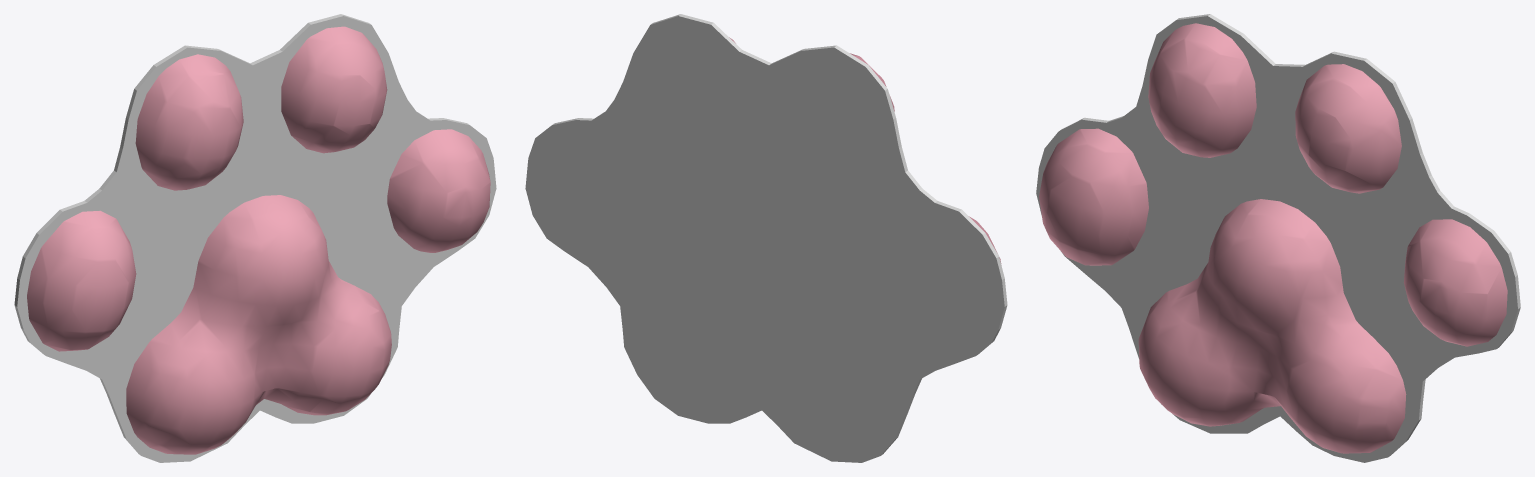
The model's file is cat.glb.
The picture shows the model from 3 angles, left to right: view 1: azimuth 30°, elevation 25°; view 2: azimuth 150°, elevation 25°; view 3: azimuth 330°, elevation 25°; orthographic projection.
Parts seen in each view (by area): view 1: メタボール.007, 平面; view 2: 平面; view 3: メタボール.007, 平面.
Boxes of the visible parts, <box> form: メタボール.007: <box>27,26,490,454</box>; 平面: <box>14,14,496,462</box>; 平面: <box>525,14,1007,462</box>; メタボール.007: <box>1039,23,1507,453</box>; 平面: <box>1036,14,1520,462</box>.
Bounding box in the file's own units: 2.48 × 2.05 × 0.3139.
